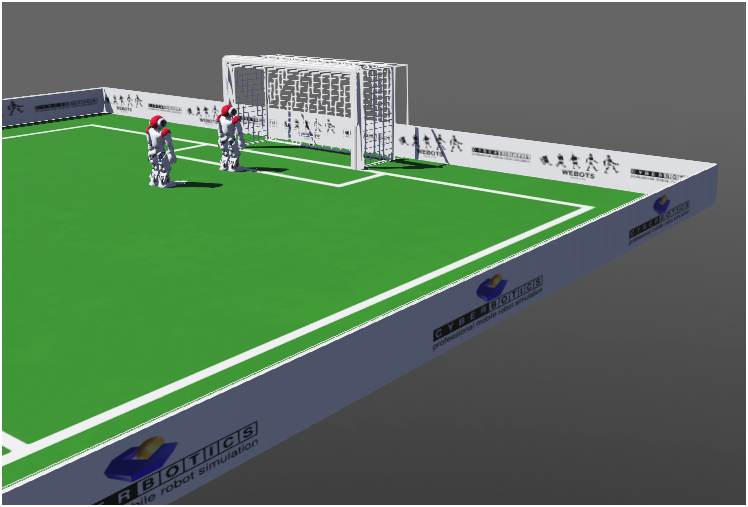Goal: (211, 51, 425, 144)
Player: (133, 88, 185, 212), (207, 88, 251, 177)
